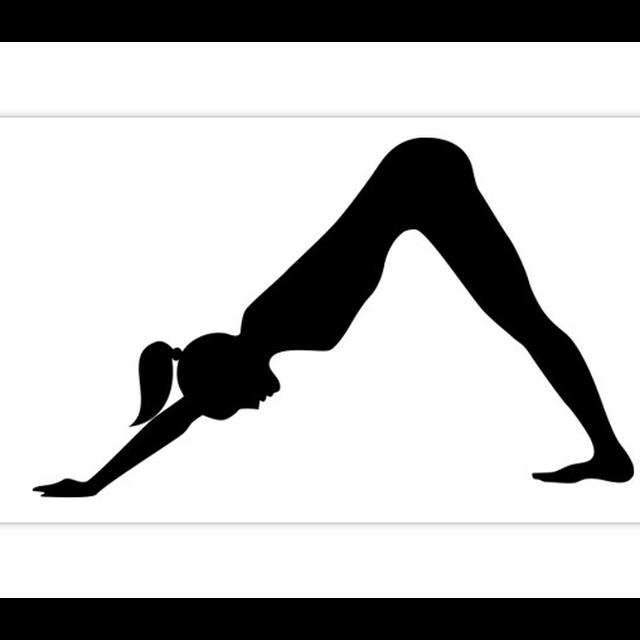Downward-Facing_Dog: (29, 133, 635, 502)
